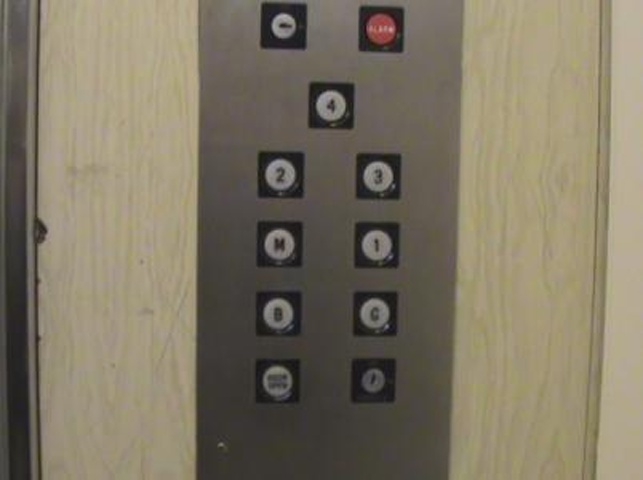1: (352, 219, 402, 271)
2: (255, 149, 307, 200)
3: (352, 150, 403, 202)
4: (306, 79, 357, 132)
B: (253, 289, 303, 339)
G: (351, 289, 400, 339)
M: (254, 218, 305, 270)
bt_keyhole: (349, 355, 397, 405)
keyhole: (258, 1, 310, 52)
text: (253, 357, 302, 406)
text_alarm: (356, 3, 406, 55)
